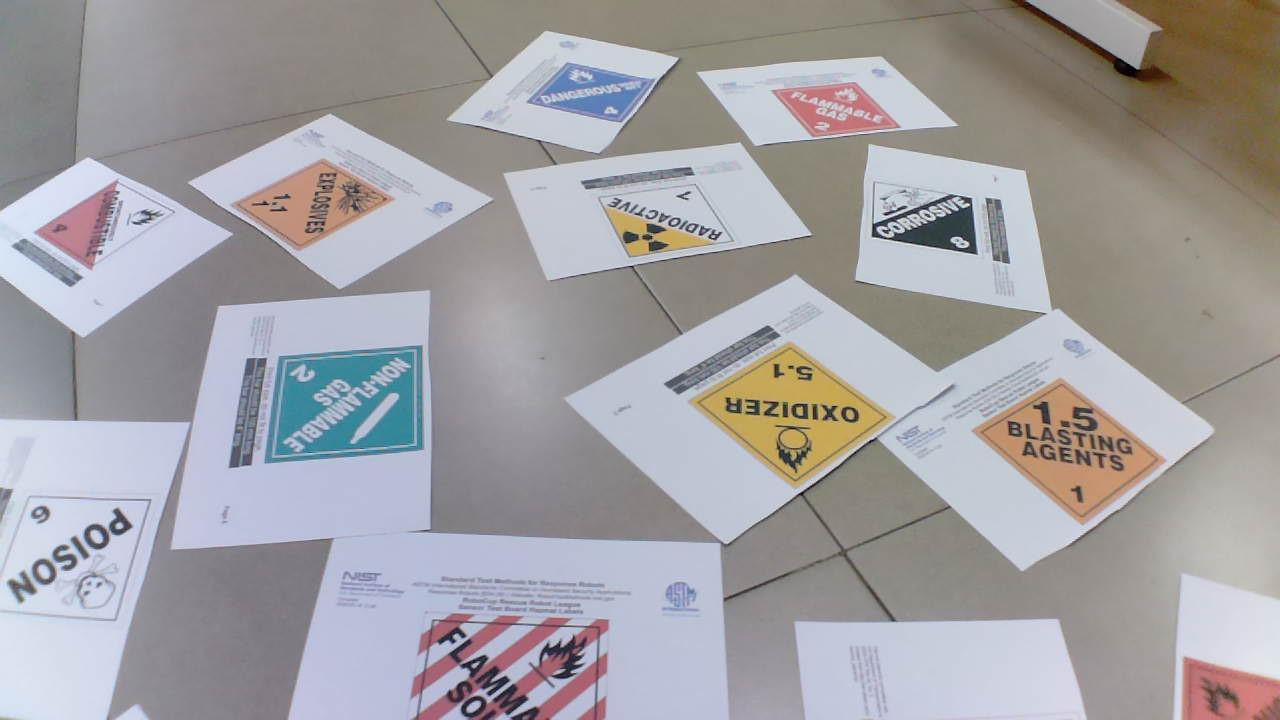corrosive: (852, 178, 994, 263)
dangerous-when-wet: (517, 56, 666, 128)
explosive: (978, 376, 1167, 524), (225, 150, 403, 257)
flammable: (772, 80, 902, 143), (1172, 648, 1280, 720)
flammable-solid: (408, 613, 630, 720)
non-flammable-gas: (265, 346, 442, 463)
oxidizer: (698, 338, 883, 481)
poison: (1, 483, 154, 639)
radioactive: (590, 180, 741, 265)
spontaneously-combustible: (22, 171, 178, 268)
